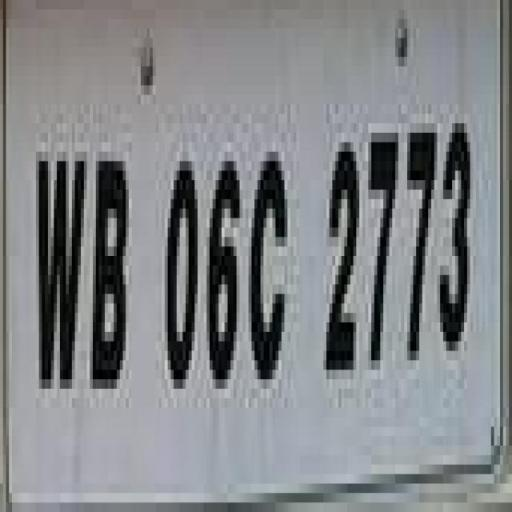number plate: (17, 18, 512, 493)
